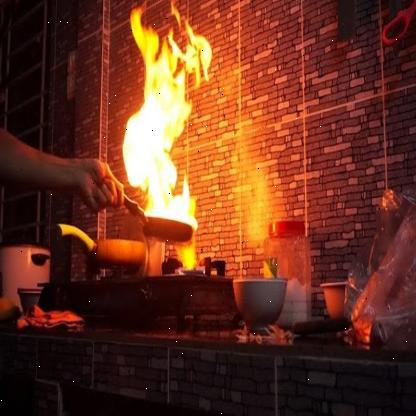fire: (113, 0, 211, 274)
